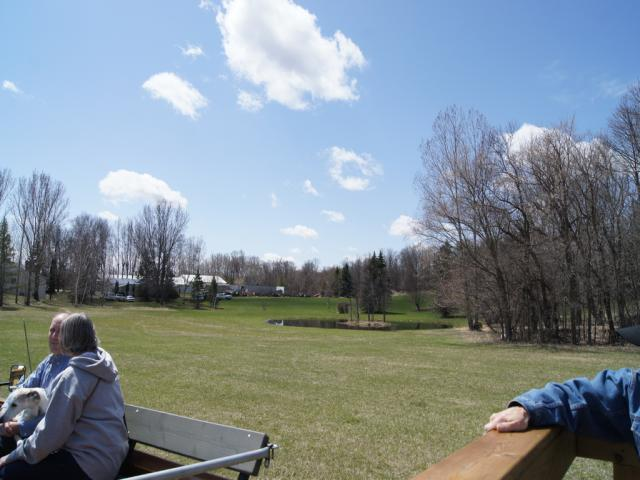Dog: (0, 388, 48, 447)
